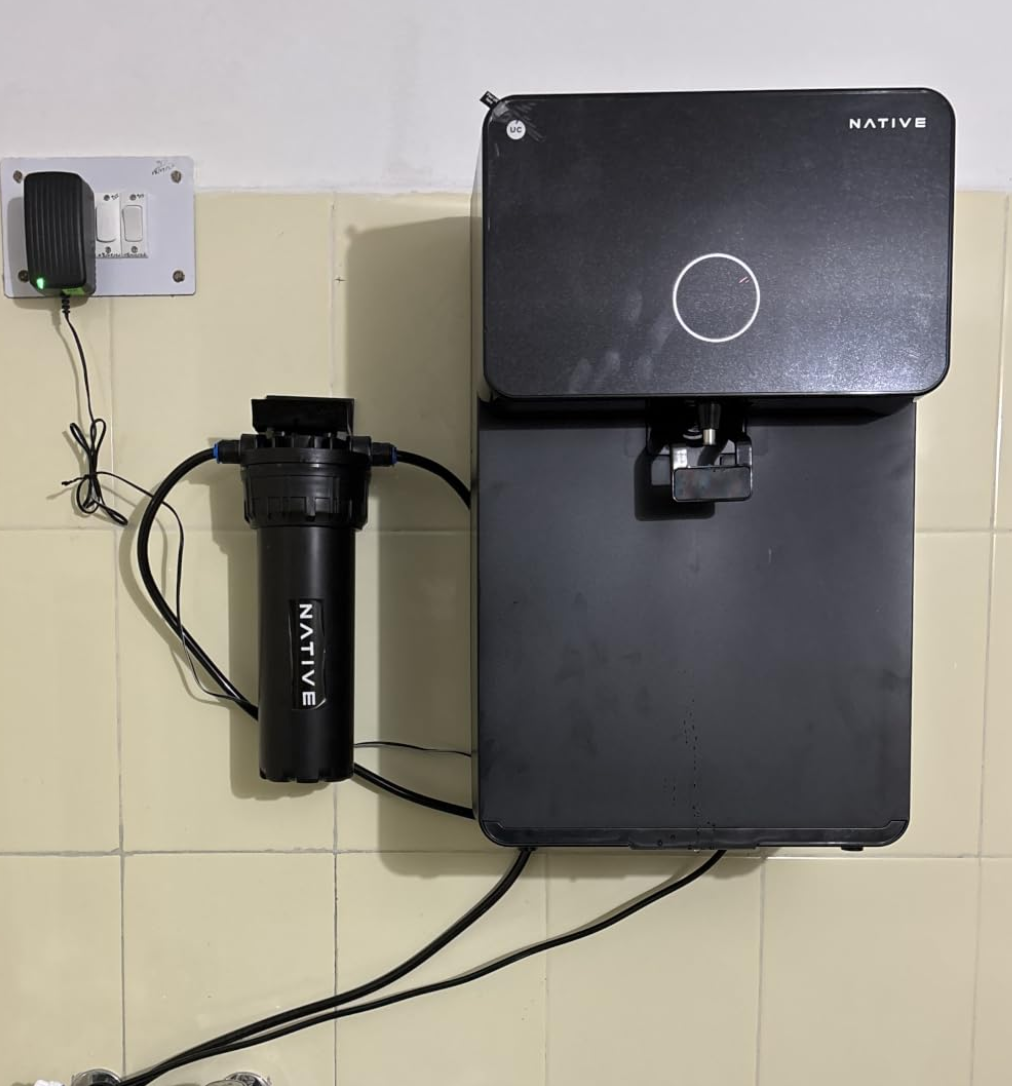water purifier: (439, 63, 979, 866)
